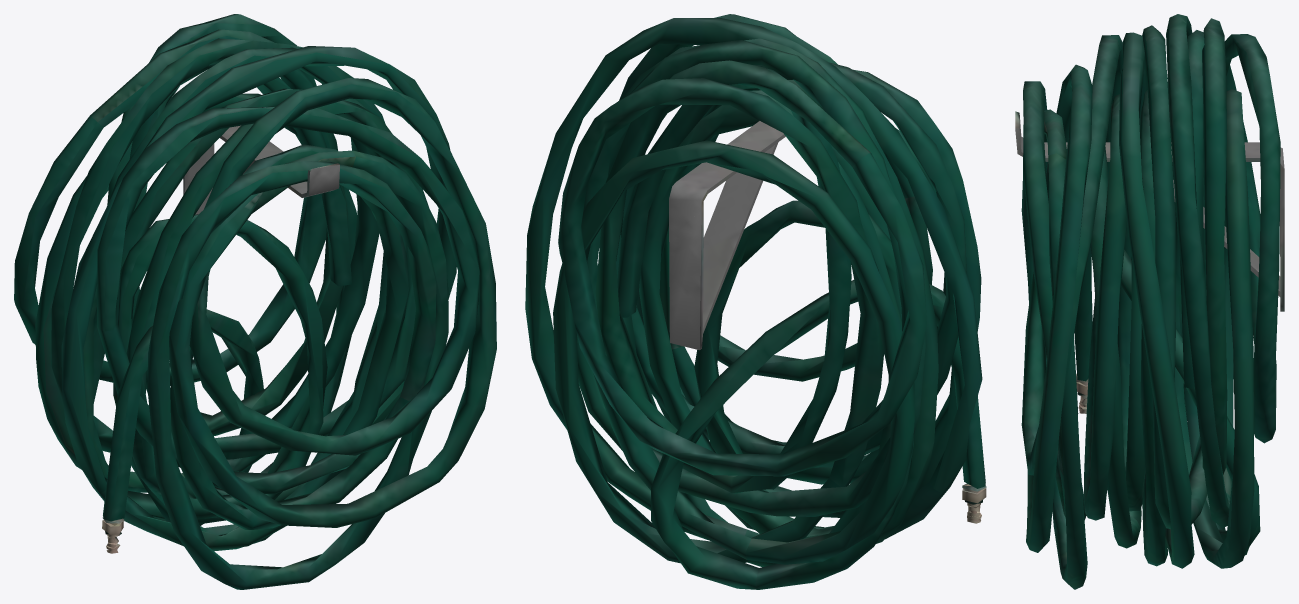
Rendered from garden_hose_wall_mounted_01.l.d383b25e.glb.
3 views of the same model, side by side, from view 1: azimuth 30°, elevation 25°; view 2: azimuth 150°, elevation 25°; view 3: azimuth 270°, elevation 25° (orthographic). The views are drawn at different scales.
Parts seen in each view (by area): view 1: garden_hose, garden_hose_wall_bracket; view 2: garden_hose, garden_hose_wall_bracket; view 3: garden_hose, garden_hose_wall_bracket.
Boxes of the visible parts, bbox=[...] form: garden_hose: bbox=[14, 14, 496, 589]; garden_hose_wall_bracket: bbox=[183, 125, 339, 214]; garden_hose: bbox=[525, 14, 986, 589]; garden_hose_wall_bracket: bbox=[669, 121, 785, 350]; garden_hose: bbox=[1021, 14, 1280, 589]; garden_hose_wall_bracket: bbox=[1015, 111, 1284, 311].
Bounding box in the file's own units: 0.4633 × 0.5511 × 0.2503.
1 material, 1 textured.
